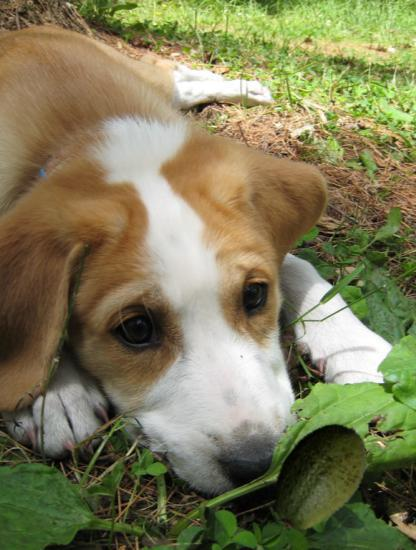Avocado: (258, 416, 380, 538)
